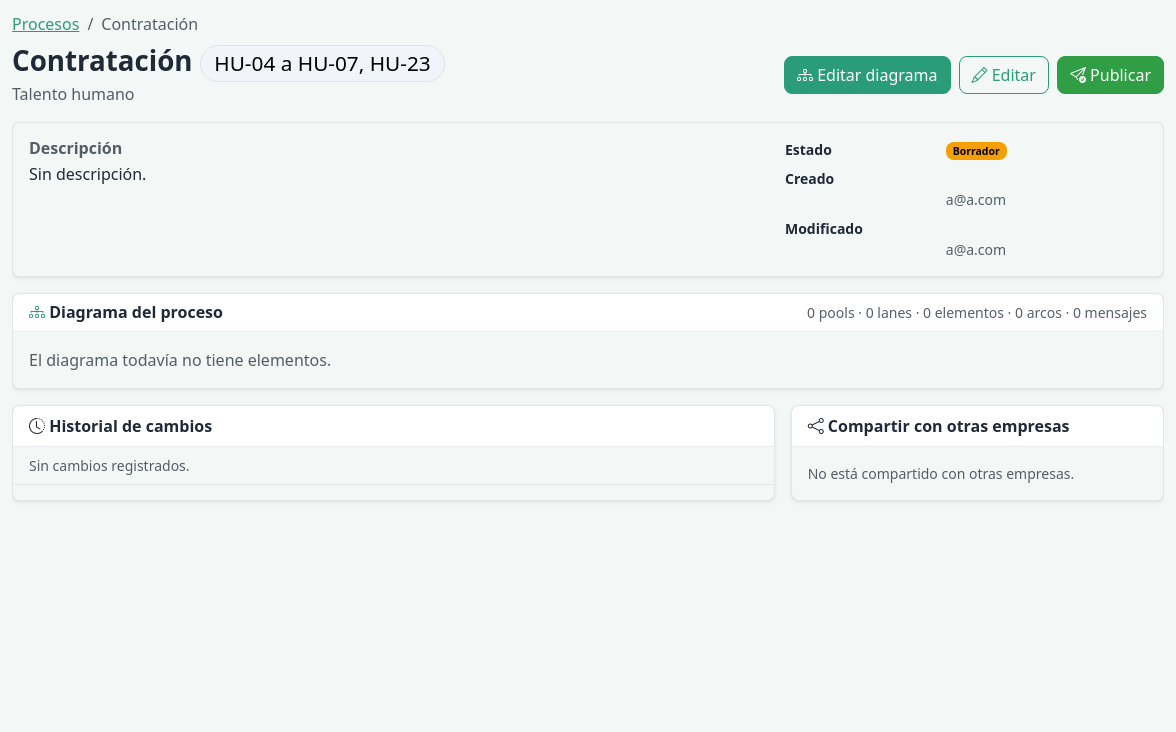
Test: ProcesoDetalleComponent (HU-04 a HU-07, HU-23) › publicar con éxito cambia el estado y recarga el historial
The image size is (1176, 732).
Click the button "Publicar": (1110,75) [1057,56,1164,94]
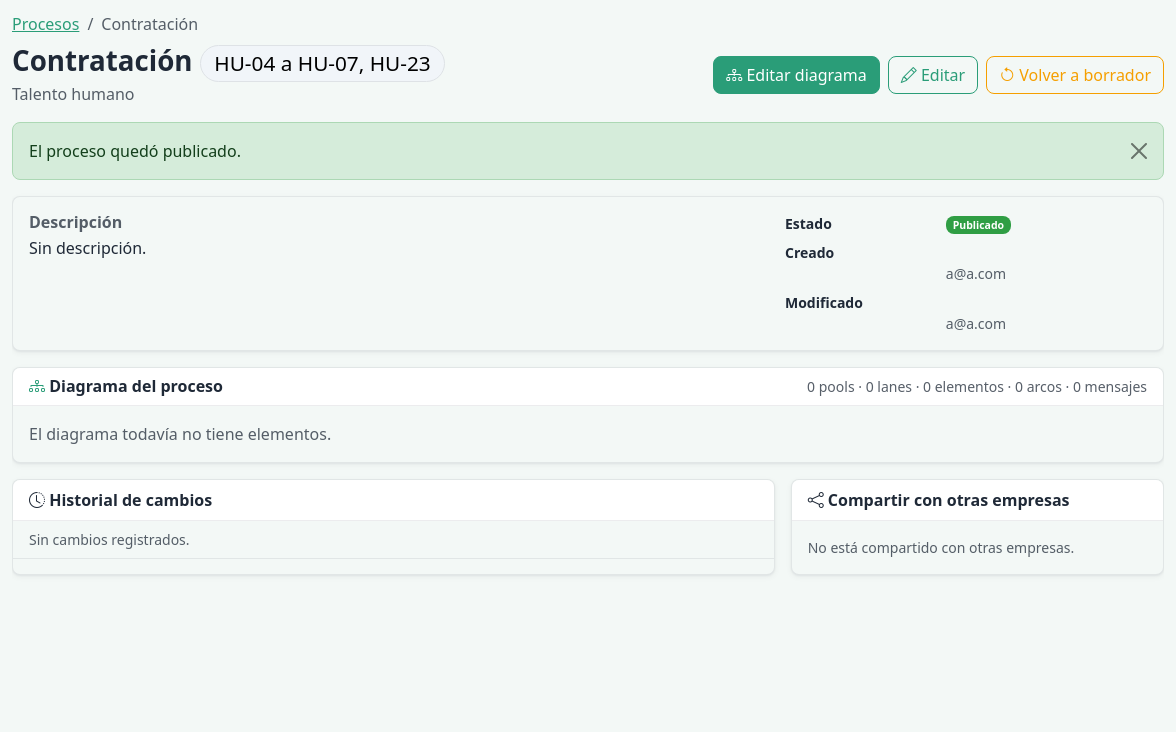
Now the element with id "avisoProceso" shows "publicado", box [29,140,241,162]
Now the button with id "borradorBtn" is shown, box [986,56,1164,94]
